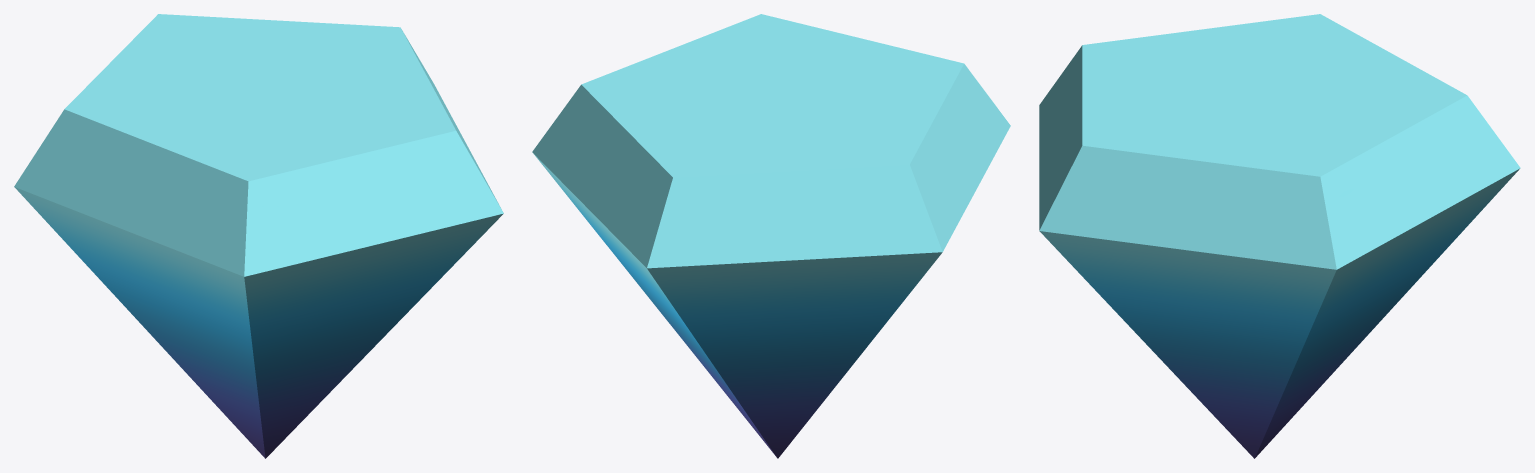
File: gem1.fbx
The picture shows the model from 3 angles, left to right: view 1: azimuth 30°, elevation 25°; view 2: azimuth 150°, elevation 25°; view 3: azimuth 270°, elevation 25°; orthographic projection. The views are drawn at different scales.
Parts seen in each view (by area): view 1: Gem1; view 2: Gem1; view 3: Gem1.
Boxes of the visible parts, x1,y1,x2,y2 form: Gem1: [14, 14, 503, 458]; Gem1: [532, 14, 1010, 458]; Gem1: [1039, 14, 1520, 458].
Bounding box in the file's own units: 1.2 × 1 × 1.2.
